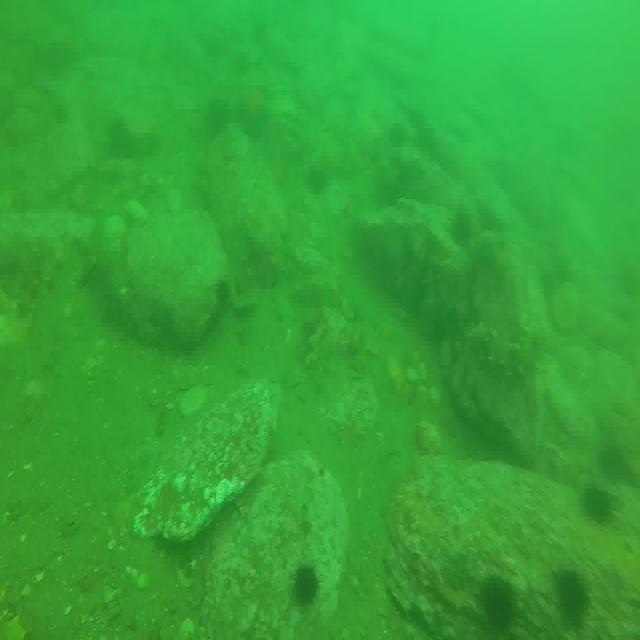echinus: (558, 568, 590, 630), (482, 580, 517, 630), (582, 486, 616, 531), (449, 210, 474, 252), (296, 567, 319, 605)
